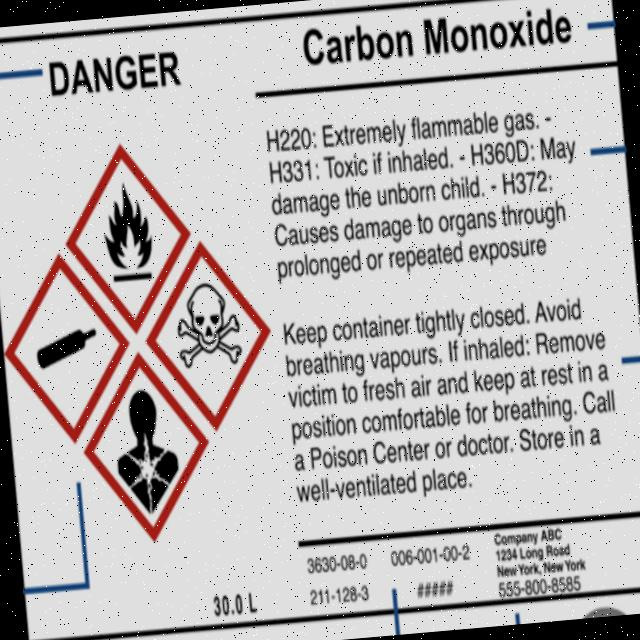chemical name: (297, 0, 590, 80)
compressed gas: (5, 273, 120, 418)
danger text: (47, 46, 194, 122)
flammable: (79, 170, 181, 303)
health hazard: (95, 369, 195, 528)
toxic: (172, 264, 258, 402)
warning text: (264, 103, 602, 302)
